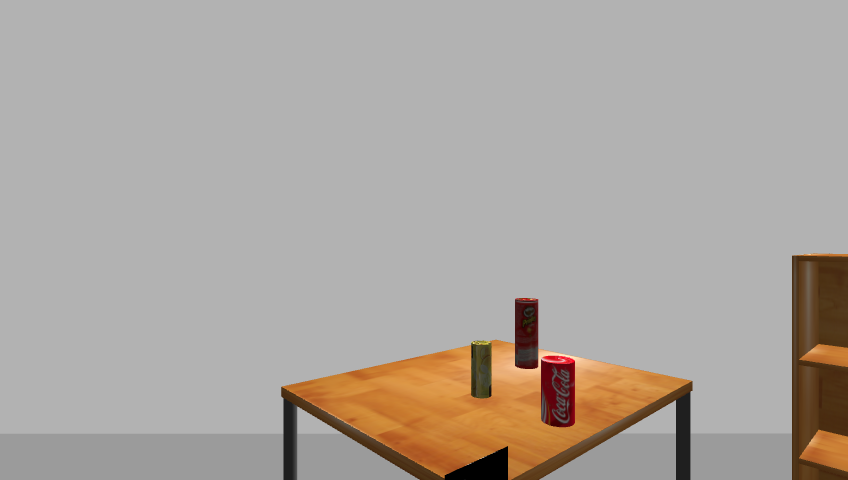aruco marker: (420, 446, 515, 480)
biscuits pack: (467, 339, 495, 399)
bookshelf: (786, 251, 848, 480)
coke can: (538, 357, 577, 427)
dinner table: (273, 339, 699, 480)
pringles can: (510, 294, 543, 369)
